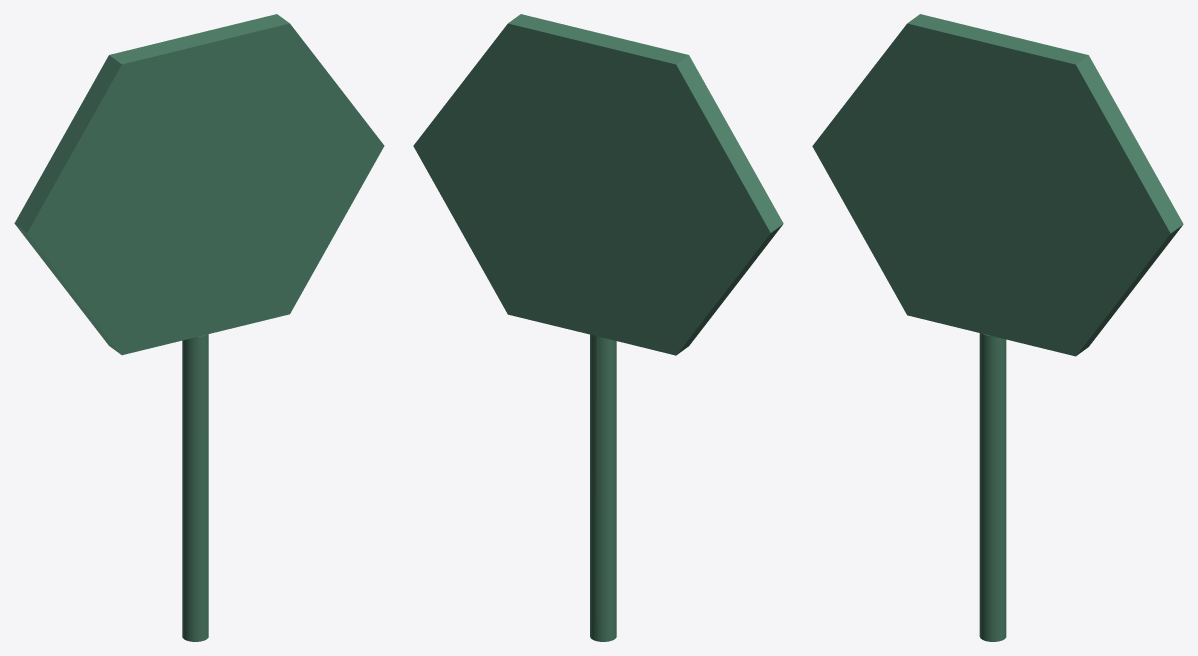
3 views of the same model, side by side, from view 1: azimuth 30°, elevation 25°; view 2: azimuth 150°, elevation 25°; view 3: azimuth 330°, elevation 25° (orthographic).
Parts seen in each view (by area): view 1: Object_2; view 2: Object_2; view 3: Object_2.
Part boxes in pixels (left/top/right/bottom): Object_2: left=14, top=14, right=384, bottom=641; Object_2: left=413, top=14, right=783, bottom=641; Object_2: left=812, top=14, right=1183, bottom=641.
Bounding box in the file's own units: 0.6275 × 1 × 0.0413.
